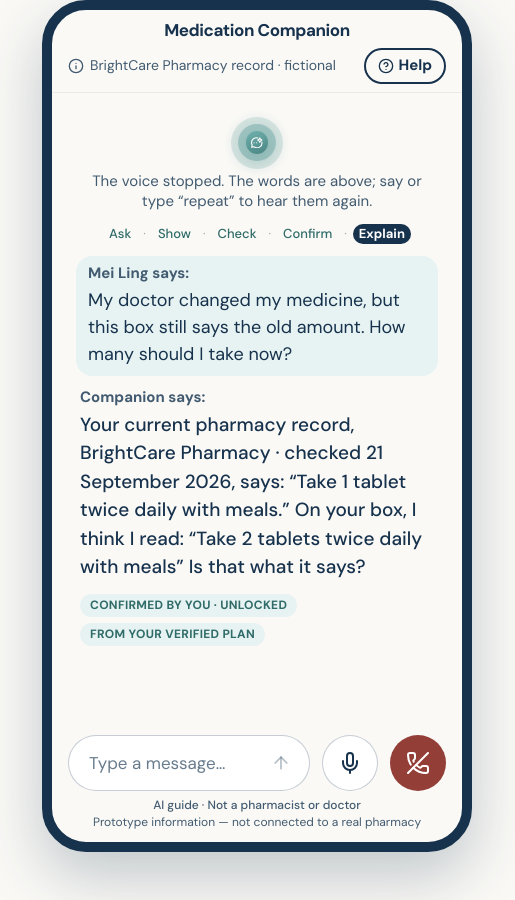
Scenario: dose-change journey in the call (UI) › reading the box the way people do: hesitation is set aside, nothing is added, and only her yes confirms
Type "no" into the field at (171, 763), box 89,736 -> 253,790
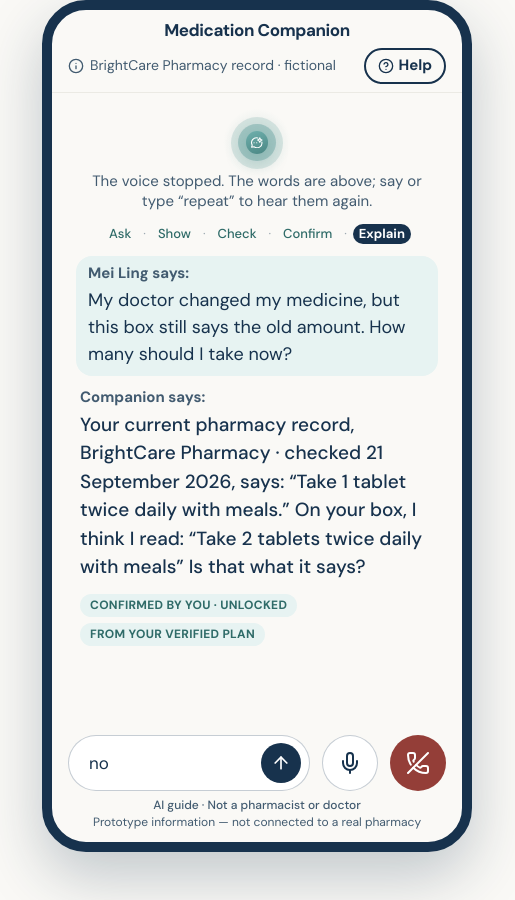
Submit the form, box 68,735 -> 310,791
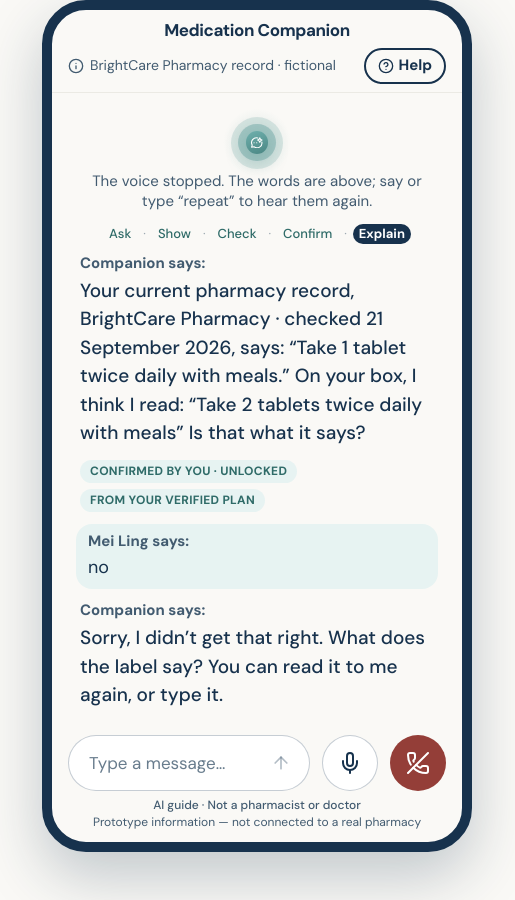
Expected: the text "Sorry, I didn’t get that right. What does the label say? You can read it to me again, or type it." is shown, 80,625 -> 425,707
Type "It says… two? I think two." into the field at (171, 763), box 89,736 -> 253,790
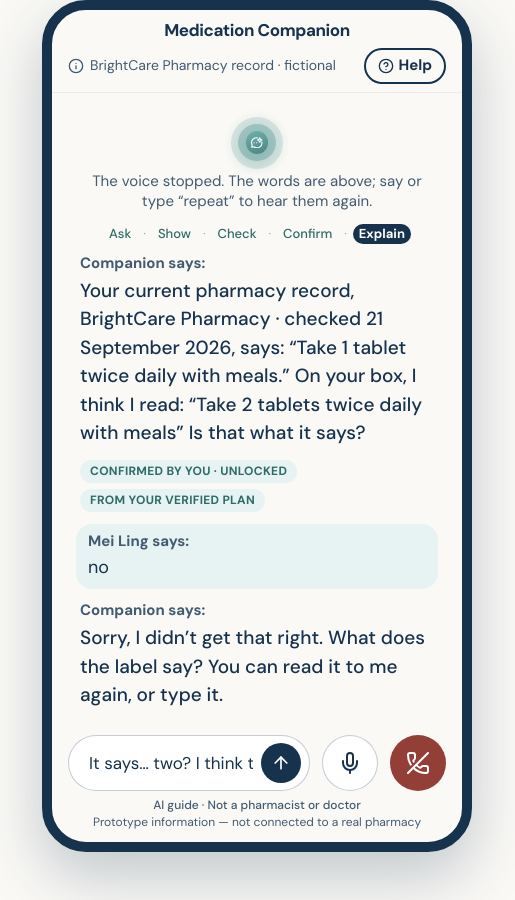
Submit the form, box 68,735 -> 310,791
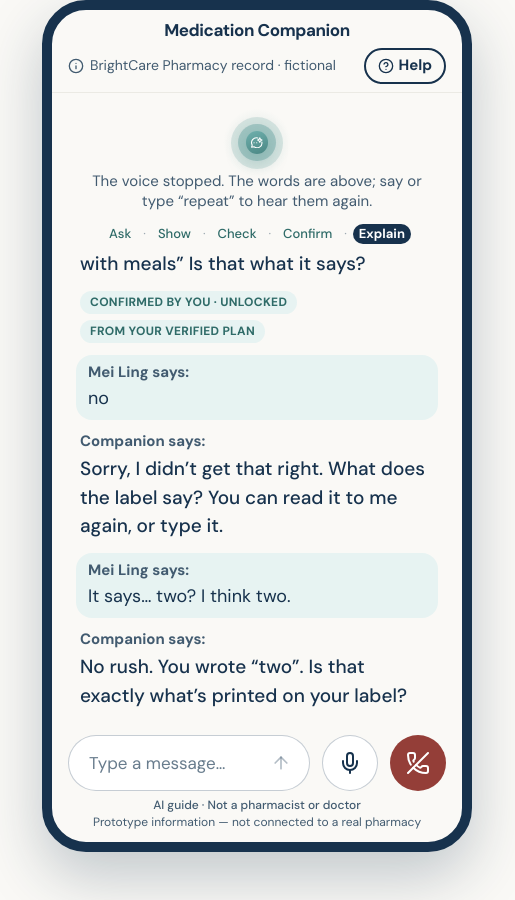
Expected: the text "No rush. You wrote “two”. Is that exactly what’s printed on your label?" is shown, 80,653 -> 434,710
Type "Yes." into the field at (171, 763), box 89,736 -> 253,790
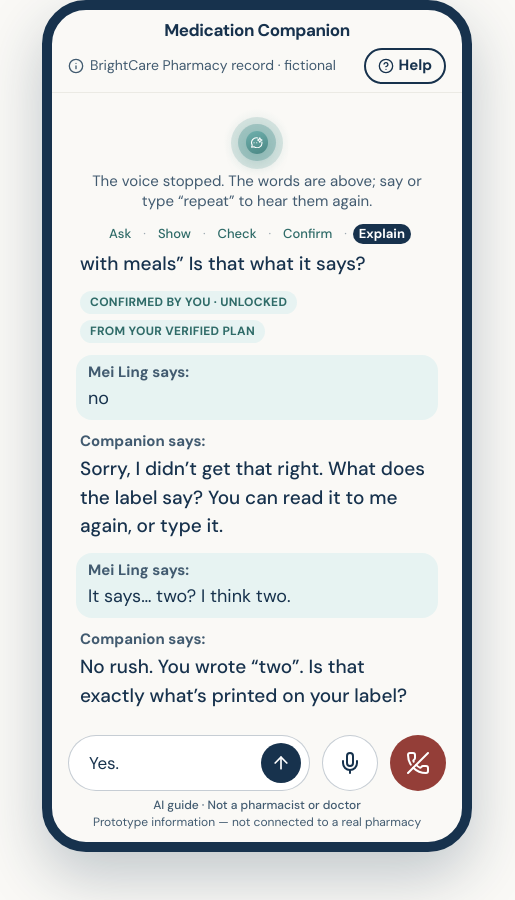
Submit the form, box 68,735 -> 310,791
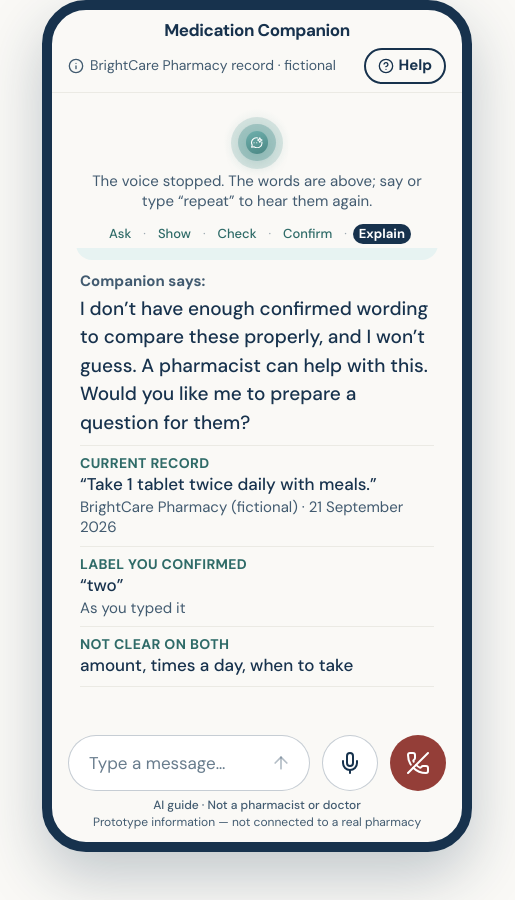
Expected: the text "Not clear on both" is shown, 80,635 -> 229,653
